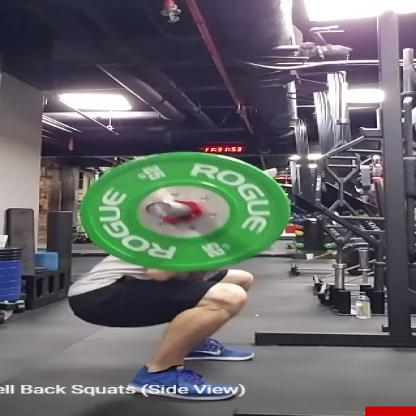Barbell: (72, 138, 296, 275)
